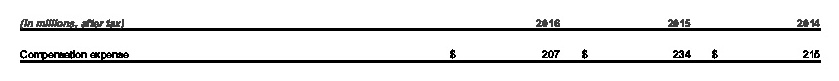table: (0, 0, 839, 81)
